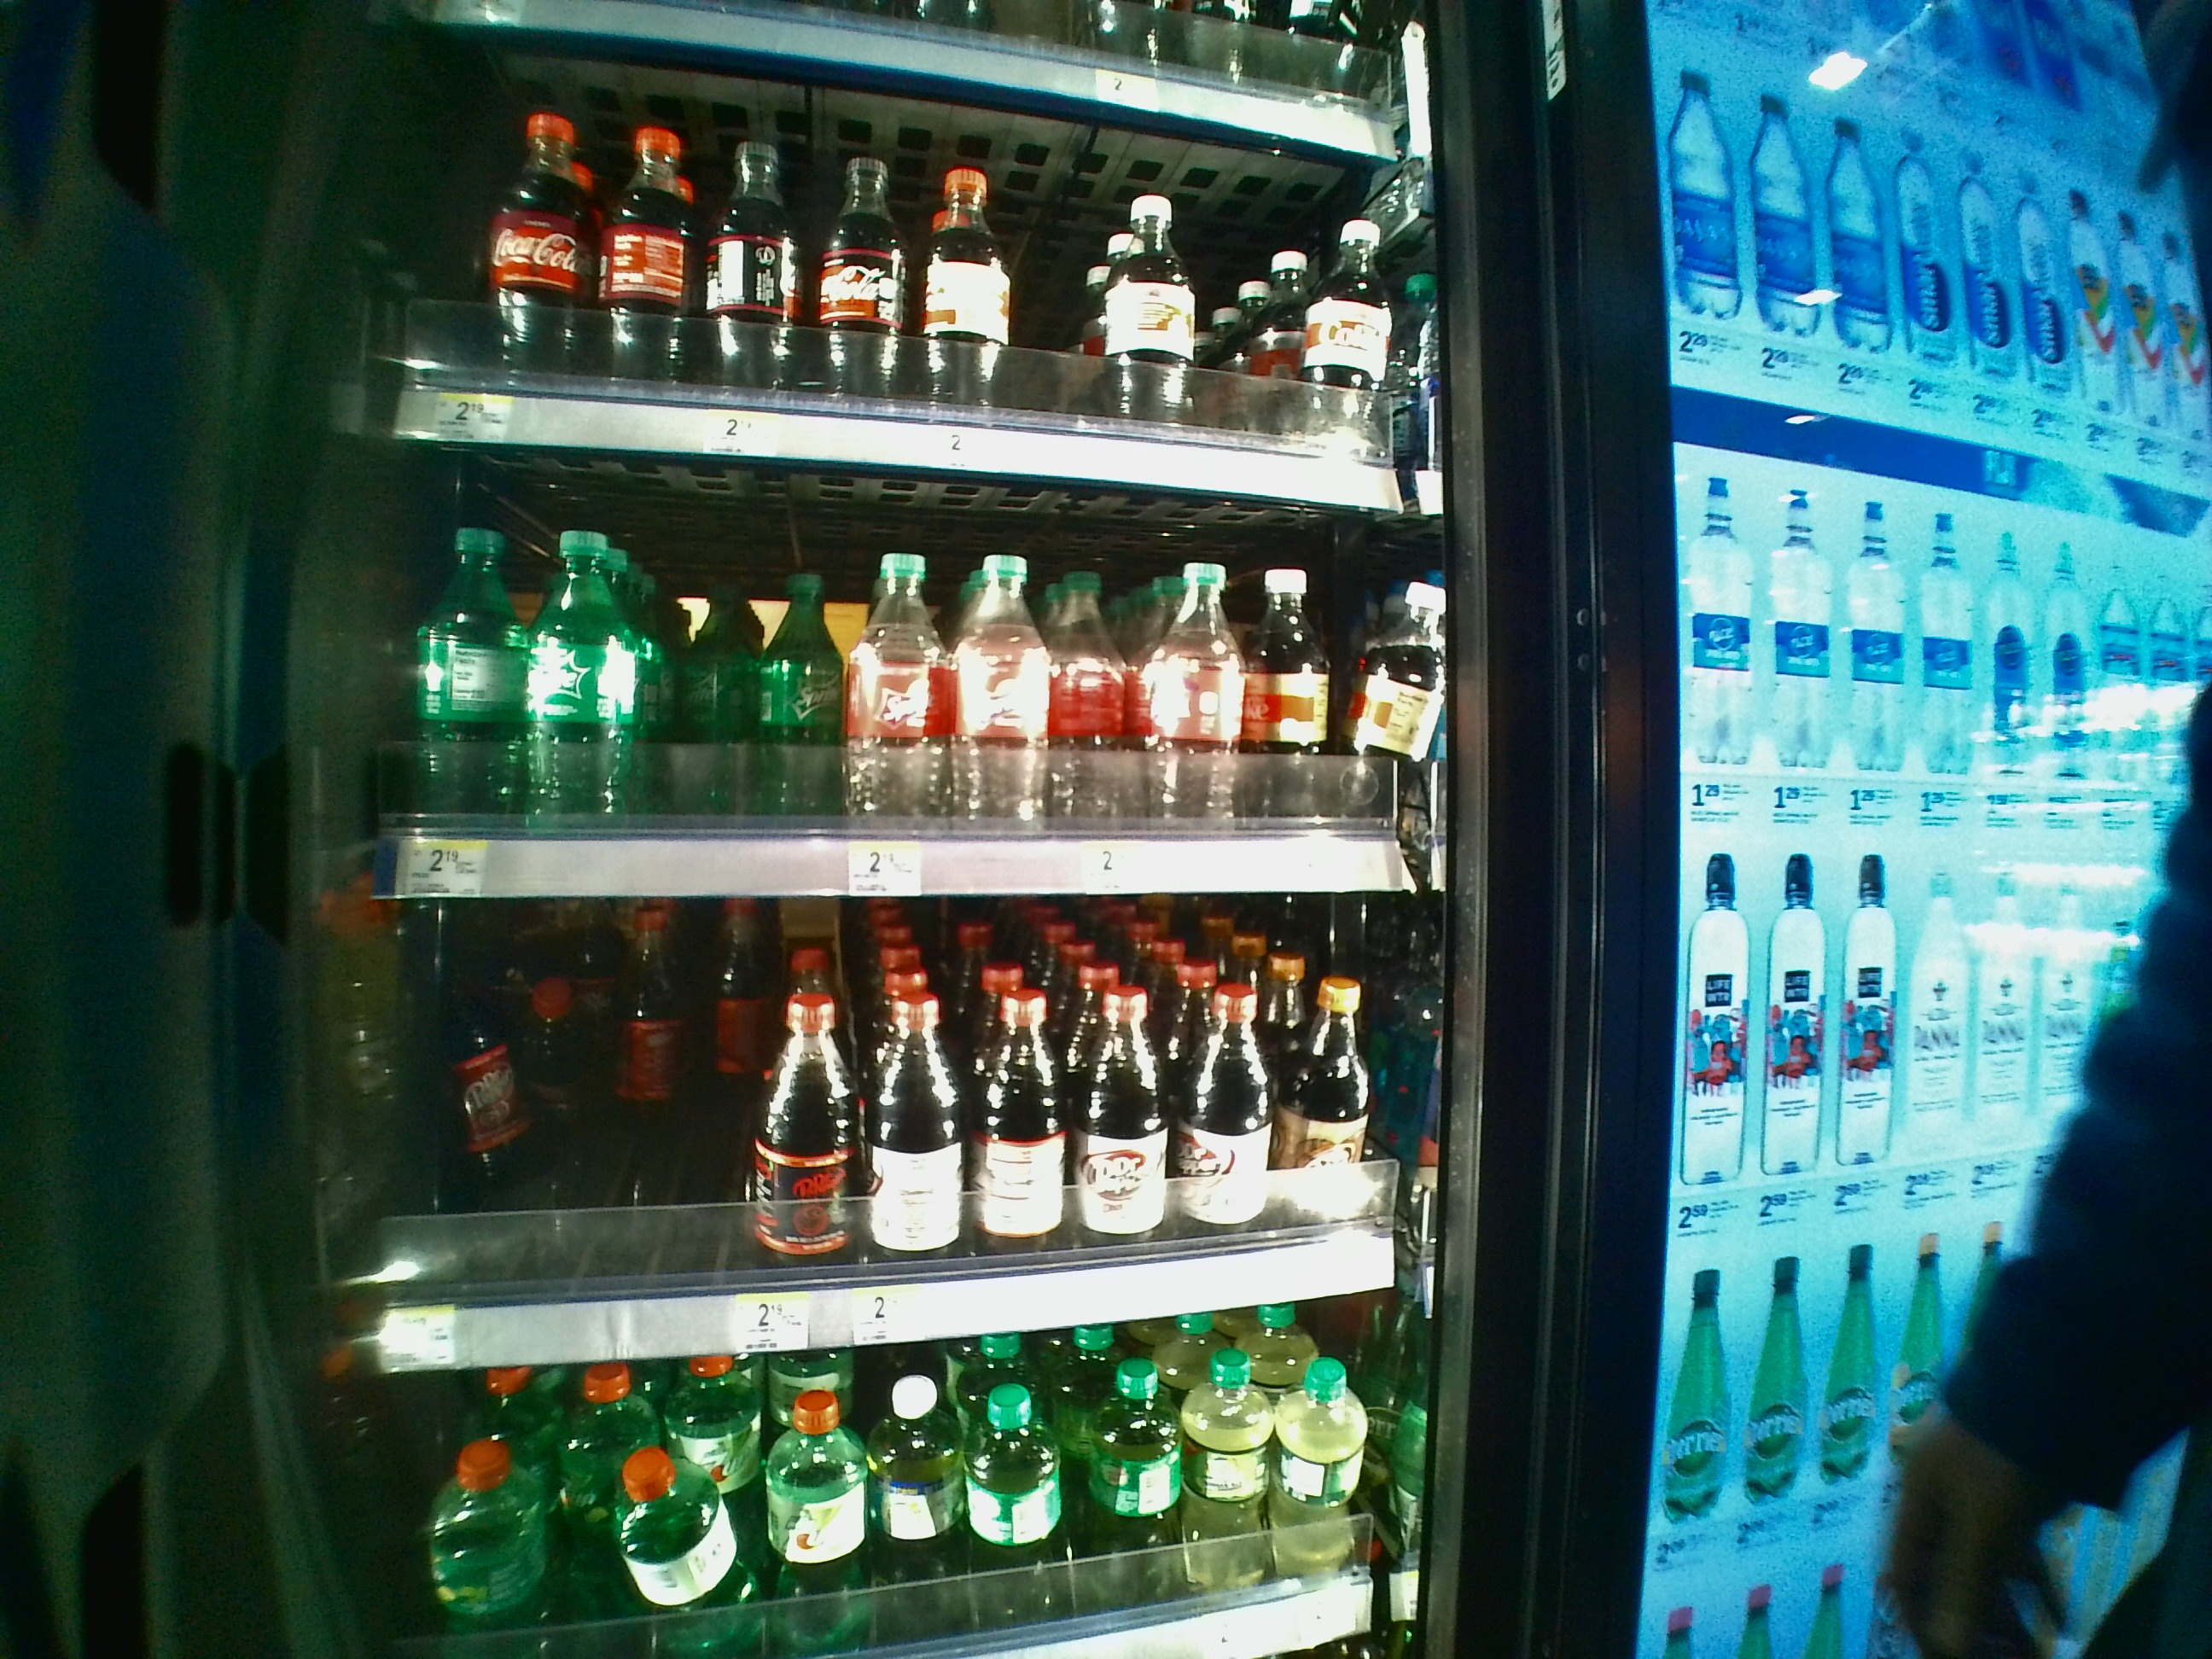shelf: (388, 899, 1407, 1377)
